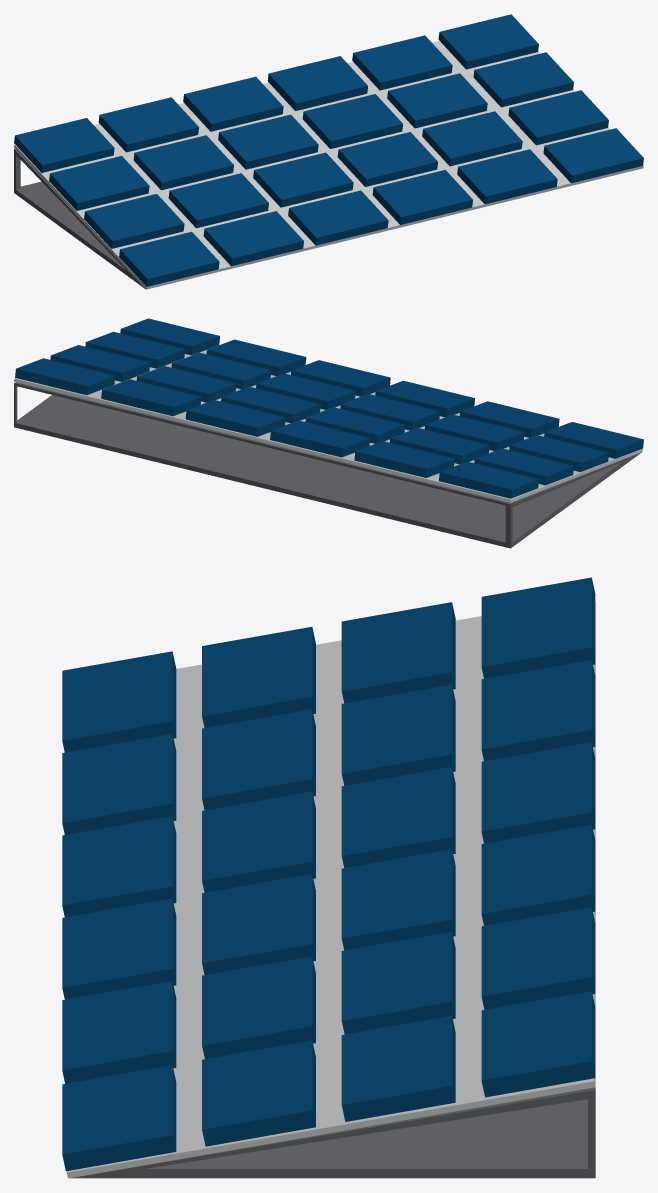
The model's file is Solar Panel 4x6 small.glb.
The picture shows the model from 3 angles, top to bottom: view 1: azimuth 30°, elevation 25°; view 2: azimuth 150°, elevation 25°; view 3: azimuth 270°, elevation 25°; orthographic projection. The views are drawn at different scales.
Parts seen in each view (by area): view 1: Mesh_Mesh_head_geo.001_lambert2SG.001; view 2: Mesh_Mesh_head_geo.001_lambert2SG.001; view 3: Mesh_Mesh_head_geo.001_lambert2SG.001.
Boxes of the visible parts, x1,y1,x2,y2 form: Mesh_Mesh_head_geo.001_lambert2SG.001: (14, 14, 643, 289); Mesh_Mesh_head_geo.001_lambert2SG.001: (14, 318, 643, 548); Mesh_Mesh_head_geo.001_lambert2SG.001: (62, 577, 595, 1178).
Size of the model in its own units: 182 by 20.35 by 84.53.
